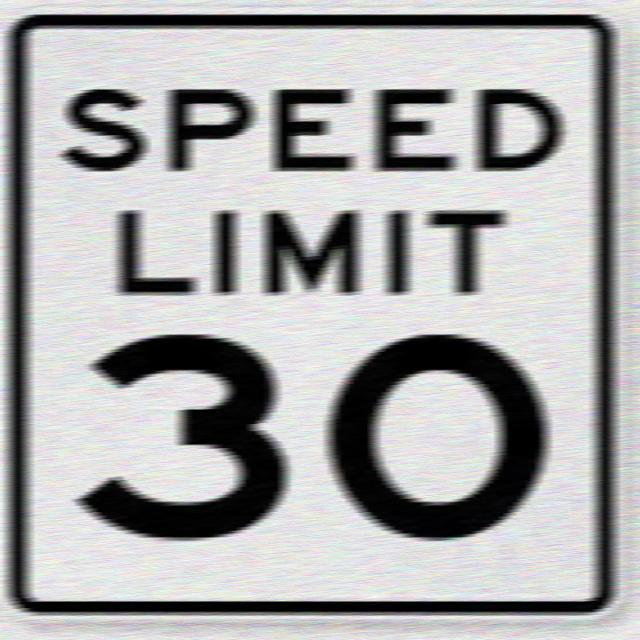speedLimit30: (7, 18, 629, 612)
